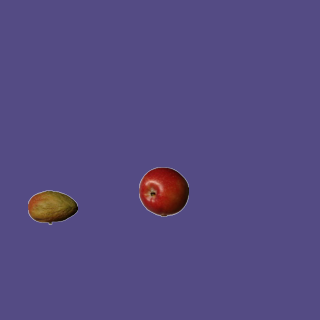Apple Braeburn: (138, 166, 188, 216)
Papaya: (27, 182, 77, 232)
